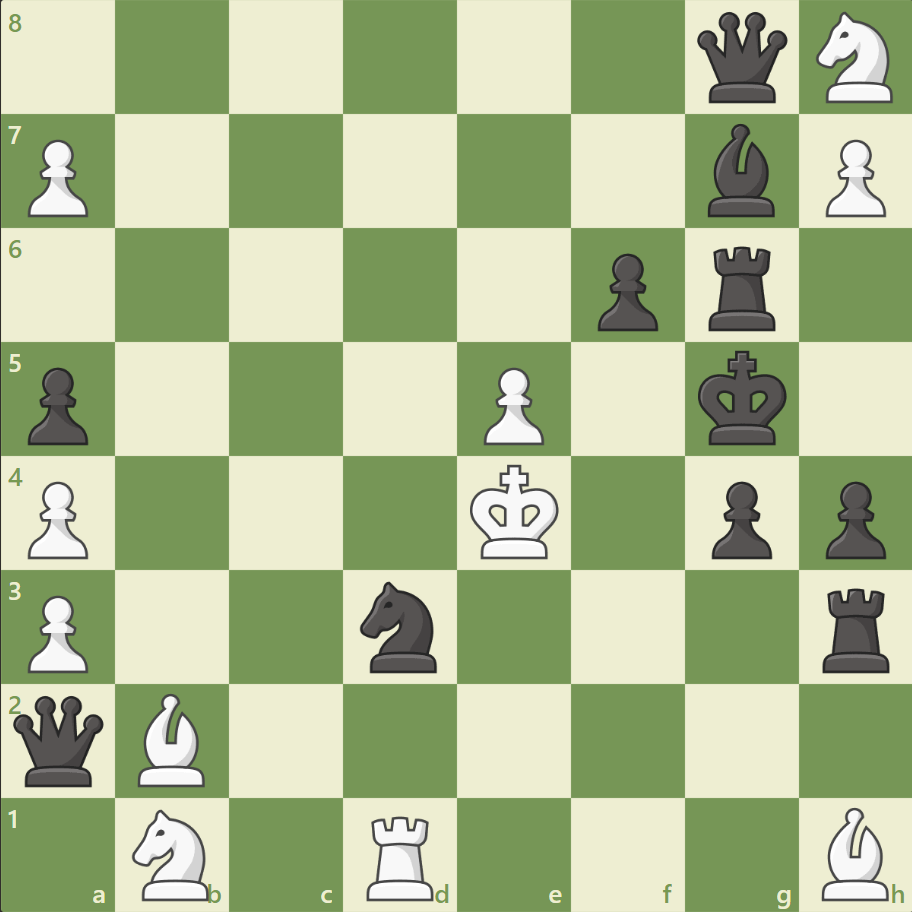B: (131, 687, 215, 790), (812, 801, 896, 904)
K: (465, 458, 565, 566)
N: (124, 802, 222, 904), (806, 7, 903, 110)
P: (20, 132, 95, 223), (474, 359, 549, 450), (20, 473, 95, 564), (20, 586, 95, 677), (815, 132, 889, 223)
R: (360, 806, 442, 904)
b: (698, 120, 782, 222)
k: (692, 344, 792, 452)
n: (351, 575, 449, 677)
p: (20, 359, 95, 450), (701, 473, 776, 564), (588, 246, 662, 337), (815, 473, 889, 564)
q: (691, 9, 790, 108), (10, 690, 109, 789)
r: (700, 239, 783, 336), (814, 579, 897, 676)
